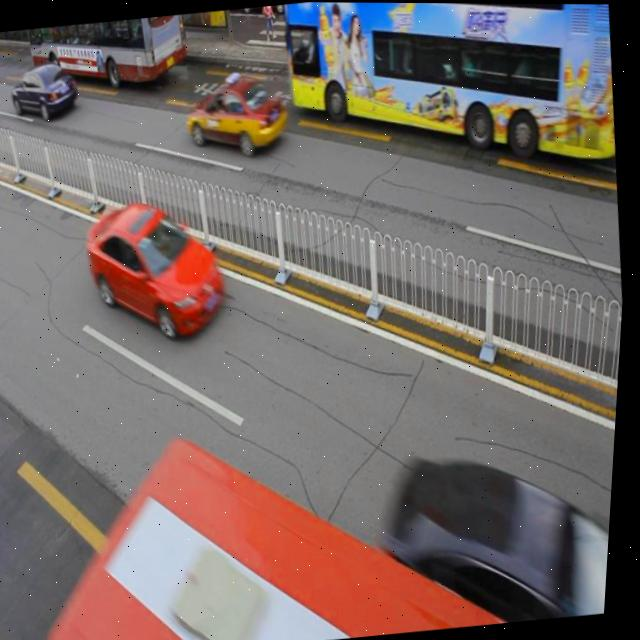car: (386, 430, 620, 633), (82, 192, 236, 347), (182, 72, 293, 161), (9, 59, 83, 124)
van: (41, 409, 518, 640), (276, 2, 623, 184), (25, 14, 190, 94)
